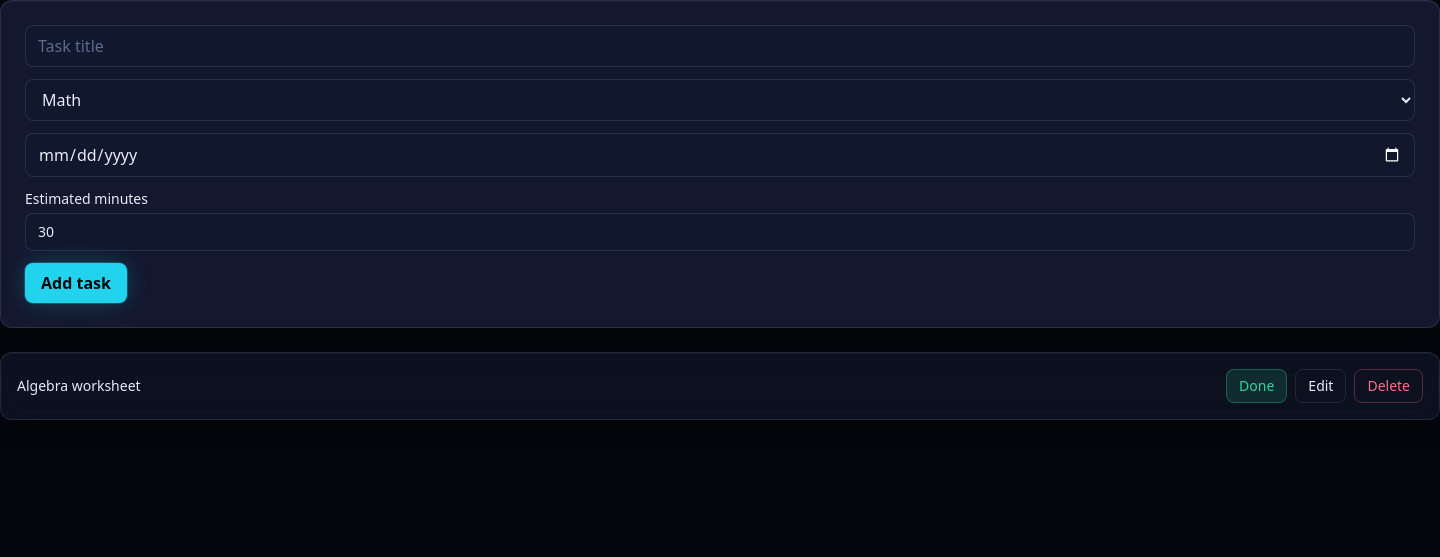
Scenario: TaskList › edits a task's title and estimated minutes via the inline edit form
The image size is (1440, 557).
Click the button with aria-label "edit algebra worksheet" at [1321, 386], box 1295,369 -> 1346,403
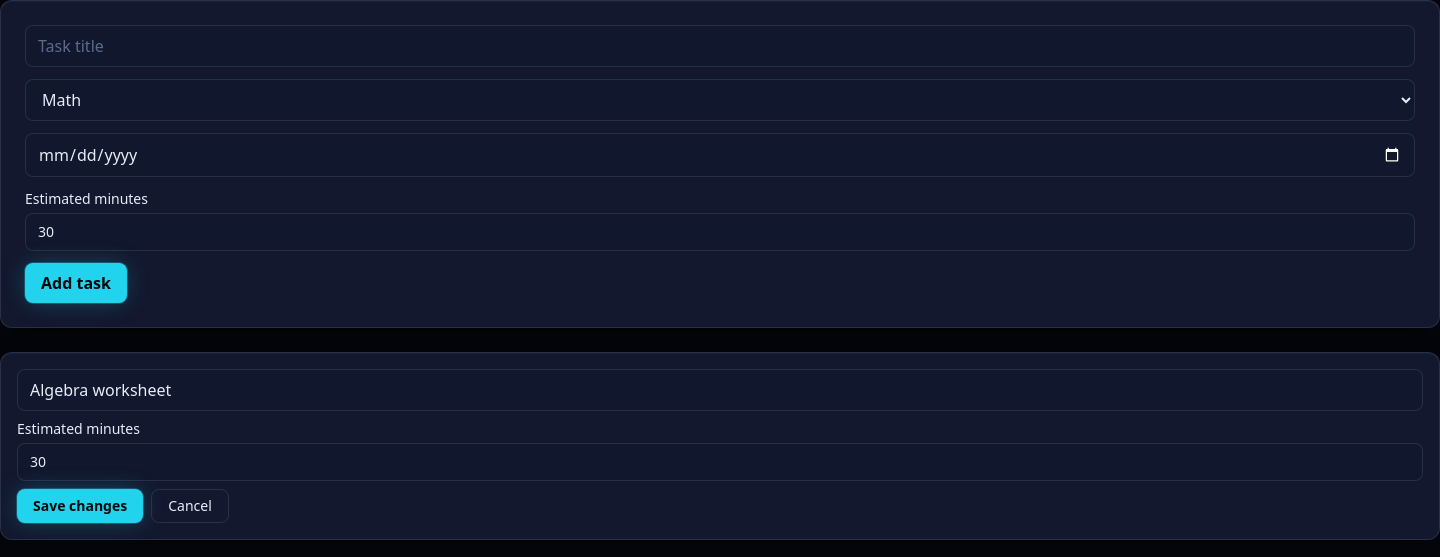
Replace the text in the field showing "Algebra worksheet" with "Algebra worksheet (revised)" at [720, 390], box 17,369 -> 1423,411
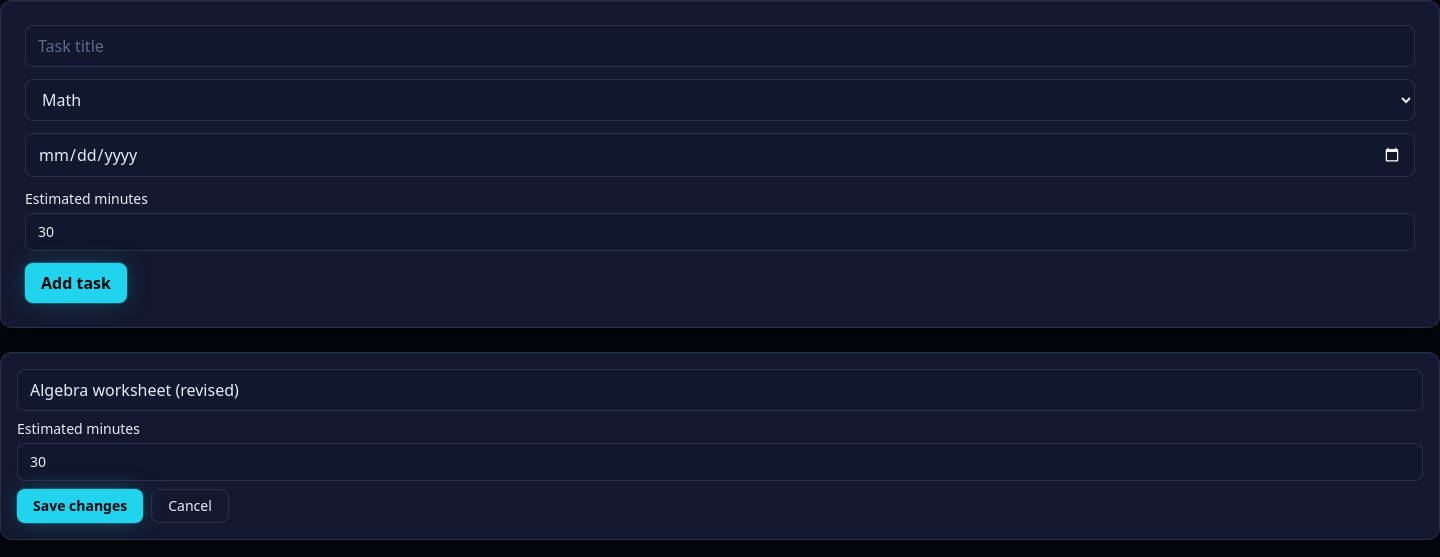
Click the button "Save changes" at [80, 506], box 17,489 -> 143,523
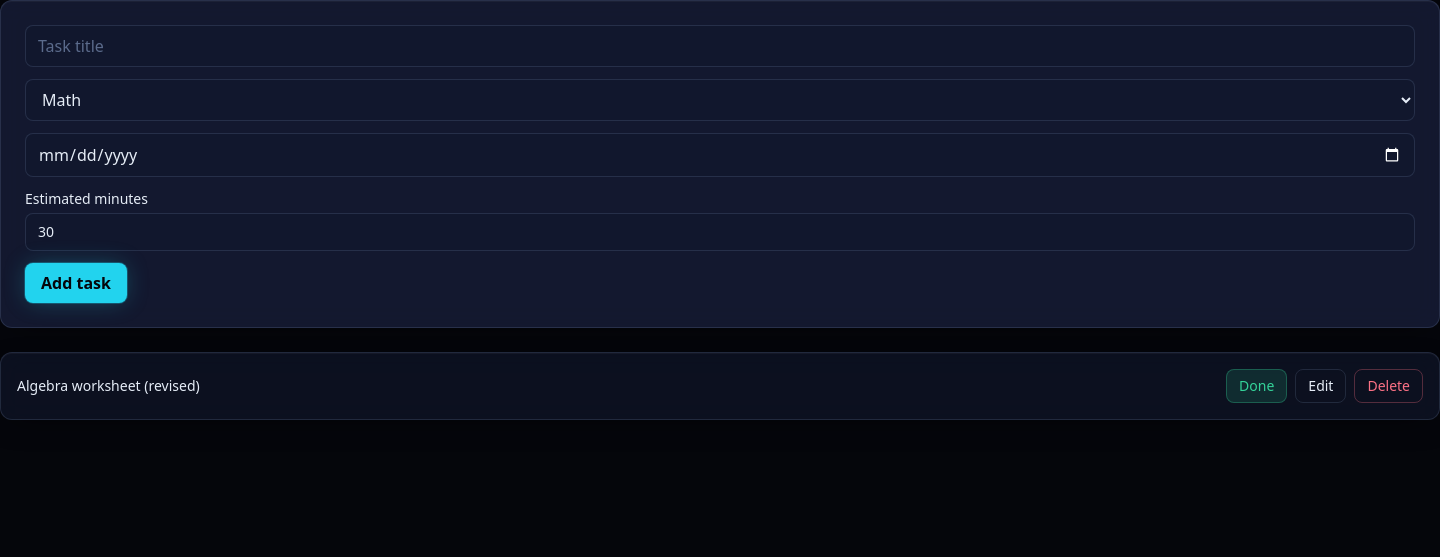
Check: the text "Algebra worksheet (revised)" is shown, box 17,376 -> 200,396
